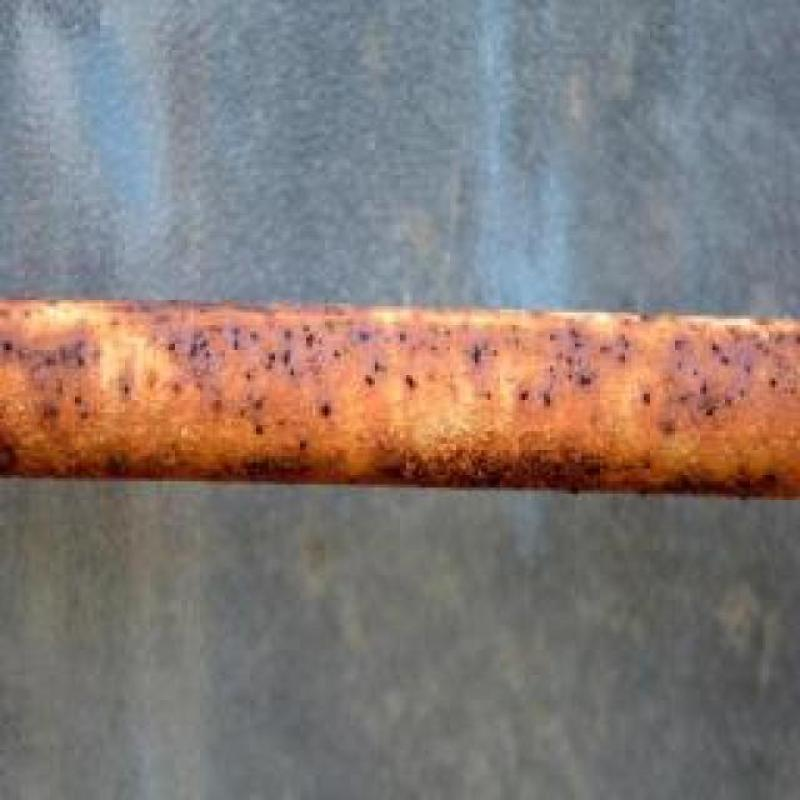corrosion: (6, 295, 800, 505)
